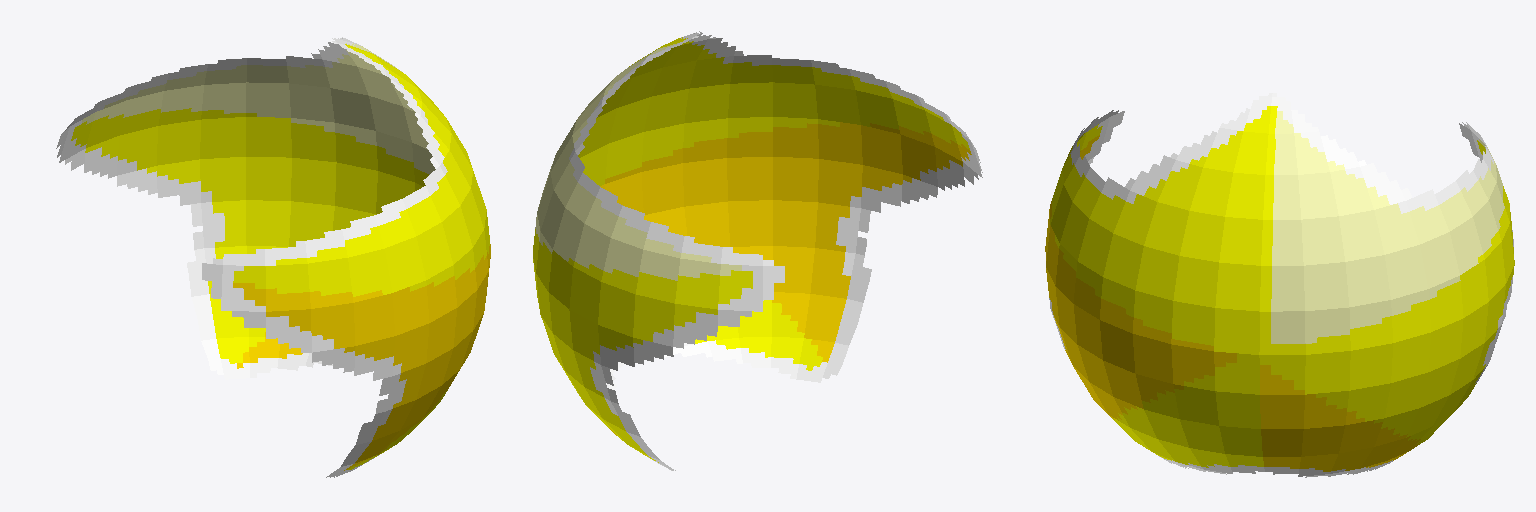
The picture shows the model from 3 angles: view 1: azimuth 30°, elevation 25°; view 2: azimuth 150°, elevation 25°; view 3: azimuth 270°, elevation 25°; orthographic projection.
Visible parts, largest first — view 1: 球; view 2: 球; view 3: 球.
Boxes of the visible parts, box(x1,y1,x2,y2) form: 球: box(56, 37, 490, 477); 球: box(533, 31, 982, 470); 球: box(1045, 93, 1514, 477).
Size of the model in its own units: 1.99 by 2 by 1.99.
Materials: 1 (1 with a texture image).